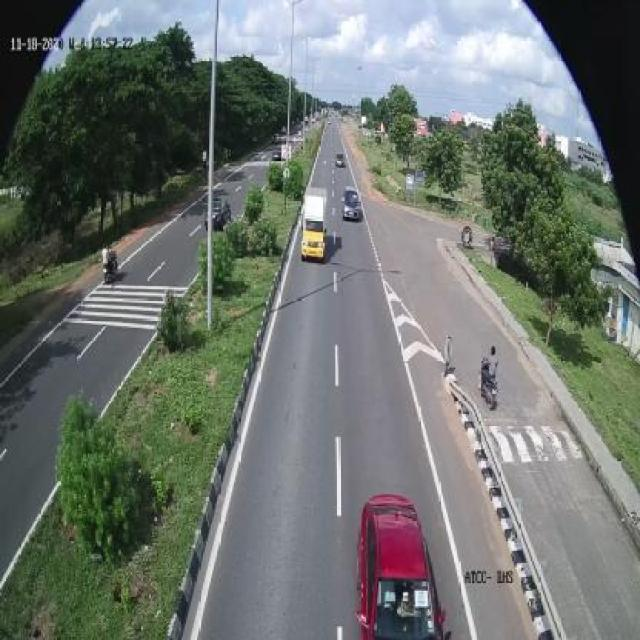car: (348, 483, 452, 640), (300, 185, 328, 268), (340, 183, 362, 225)
